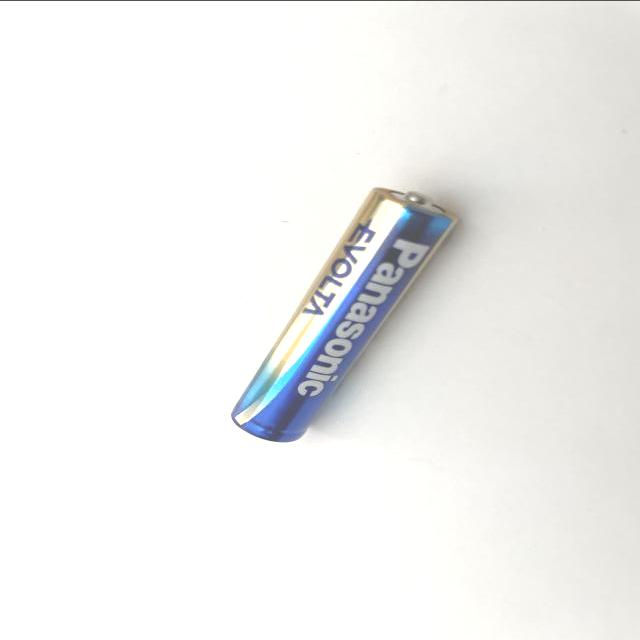AA: (228, 182, 462, 443)
